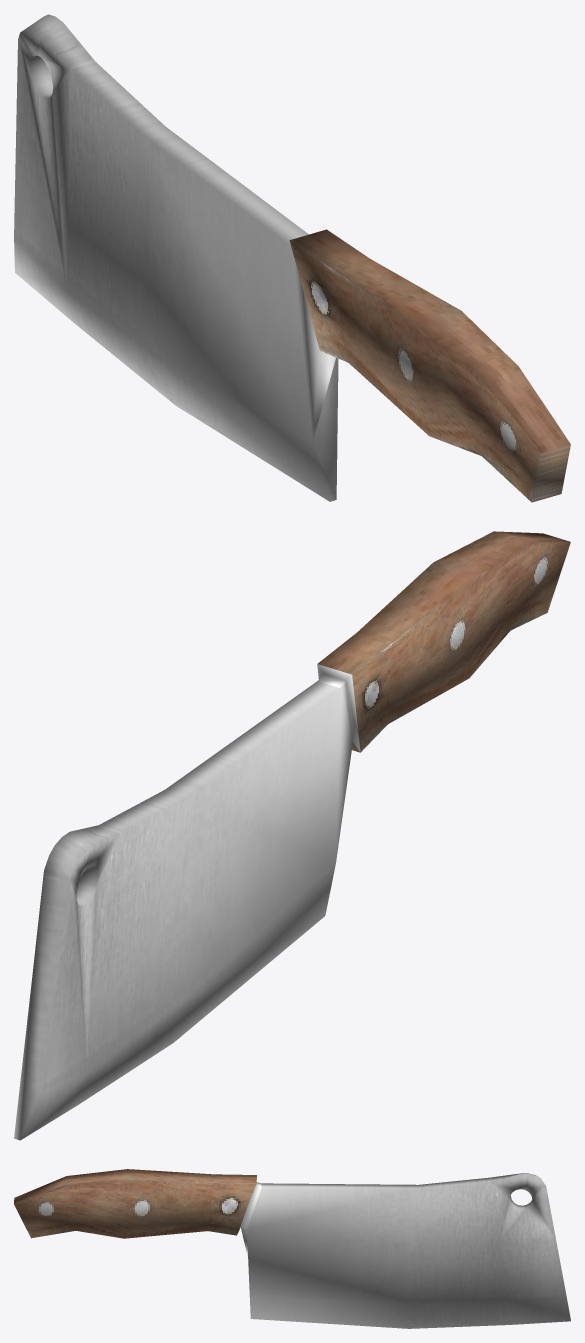
The model's file is butchersknife_held.glb.
3 renders of one model, top to bottom at view 1: azimuth 30°, elevation 25°; view 2: azimuth 150°, elevation 25°; view 3: azimuth 270°, elevation 25°, orthographic. The views are drawn at different scales.
Visible parts, largest first — view 1: Butcher; view 2: Butcher; view 3: Butcher.
Boxes of the visible parts, left/top/right/bottom form: Butcher: left=14, top=14, right=570, bottom=502; Butcher: left=14, top=531, right=570, bottom=1140; Butcher: left=14, top=1169, right=570, bottom=1328.
Bounding box in the file's own units: 0.0635 × 0.3179 × 1.05.
1 material, 1 textured.
